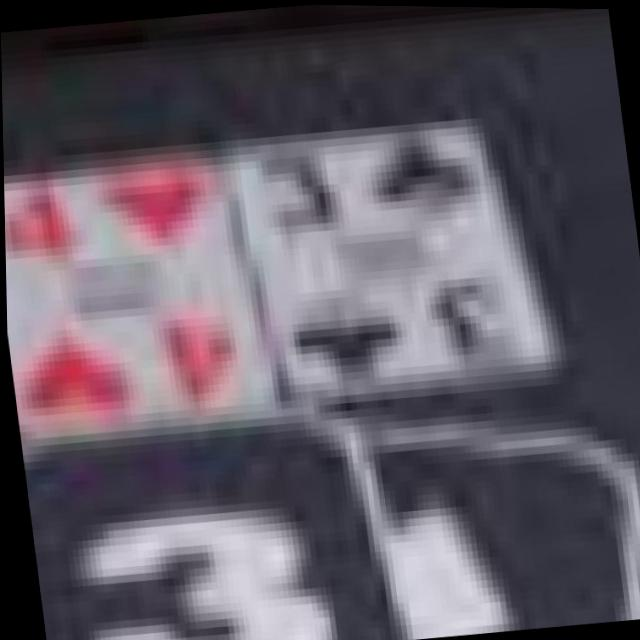Card-3: (244, 123, 547, 398)
Card-4: (3, 159, 270, 433)
